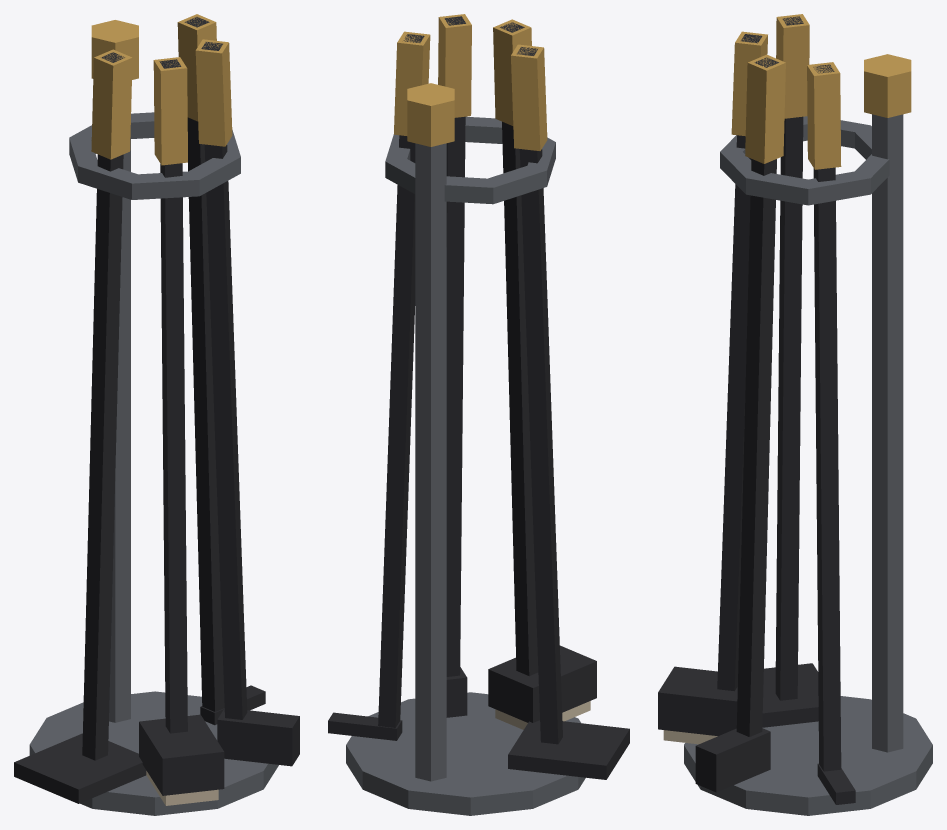
The model's file is FN_Set_Fire_Irons.obj.
3 renders of one model, left to right at view 1: azimuth 30°, elevation 25°; view 2: azimuth 150°, elevation 25°; view 3: azimuth 270°, elevation 25°, orthographic.
Parts seen in each view (by area): view 1: FN_Set_Fire_Irons; view 2: FN_Set_Fire_Irons; view 3: FN_Set_Fire_Irons.
Boxes of the visible parts, bbox=[...] form: FN_Set_Fire_Irons: bbox=[14, 14, 299, 815]; FN_Set_Fire_Irons: bbox=[328, 14, 629, 815]; FN_Set_Fire_Irons: bbox=[658, 14, 932, 815].
Bounding box in the file's own units: 0.2667 × 0.7 × 0.2428.
1 material, 1 textured.
